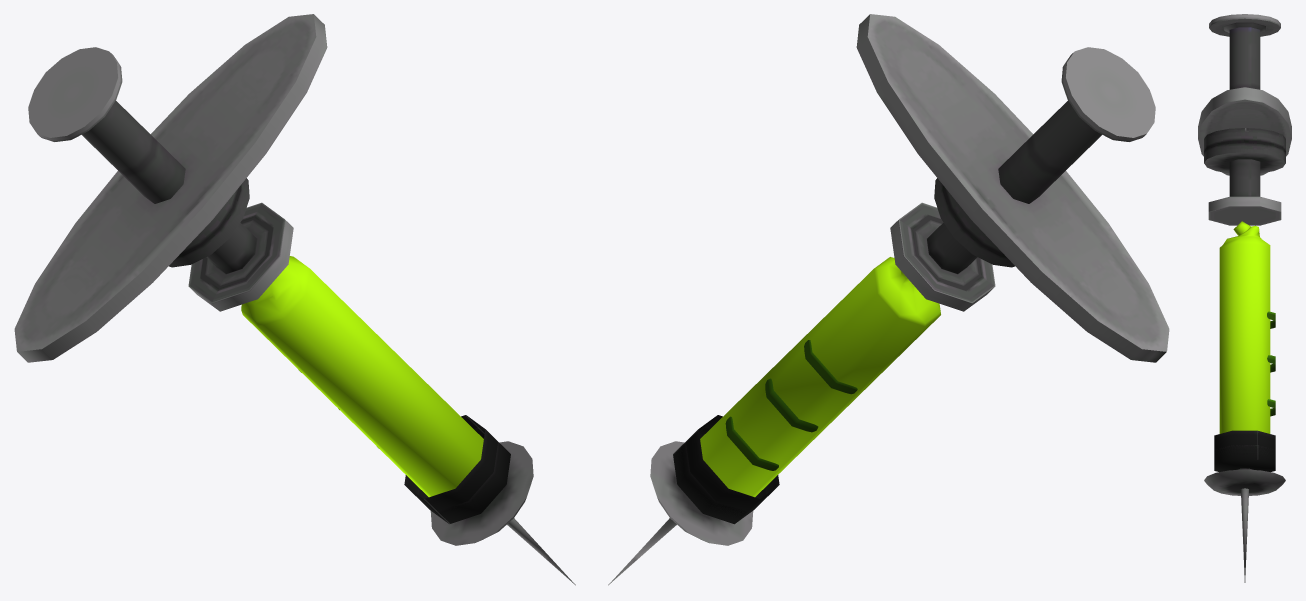
File: SyringeCluster.fbx
3 renders of one model, left to right at view 1: azimuth 30°, elevation 25°; view 2: azimuth 150°, elevation 25°; view 3: azimuth 270°, elevation 25°, orthographic. The views are drawn at different scales.
Visible parts, largest first — view 1: mdlSyringe; view 2: mdlSyringe; view 3: mdlSyringe.
Part boxes in pixels (x1=…): mdlSyringe: x1=14, y1=14, x2=575, y2=585; mdlSyringe: x1=608, y1=14, x2=1169, y2=585; mdlSyringe: x1=1198, y1=14, x2=1291, y2=582.
Size of the model in its own units: 0.9578 by 1.06 by 0.2131.
1 material, 1 textured.
